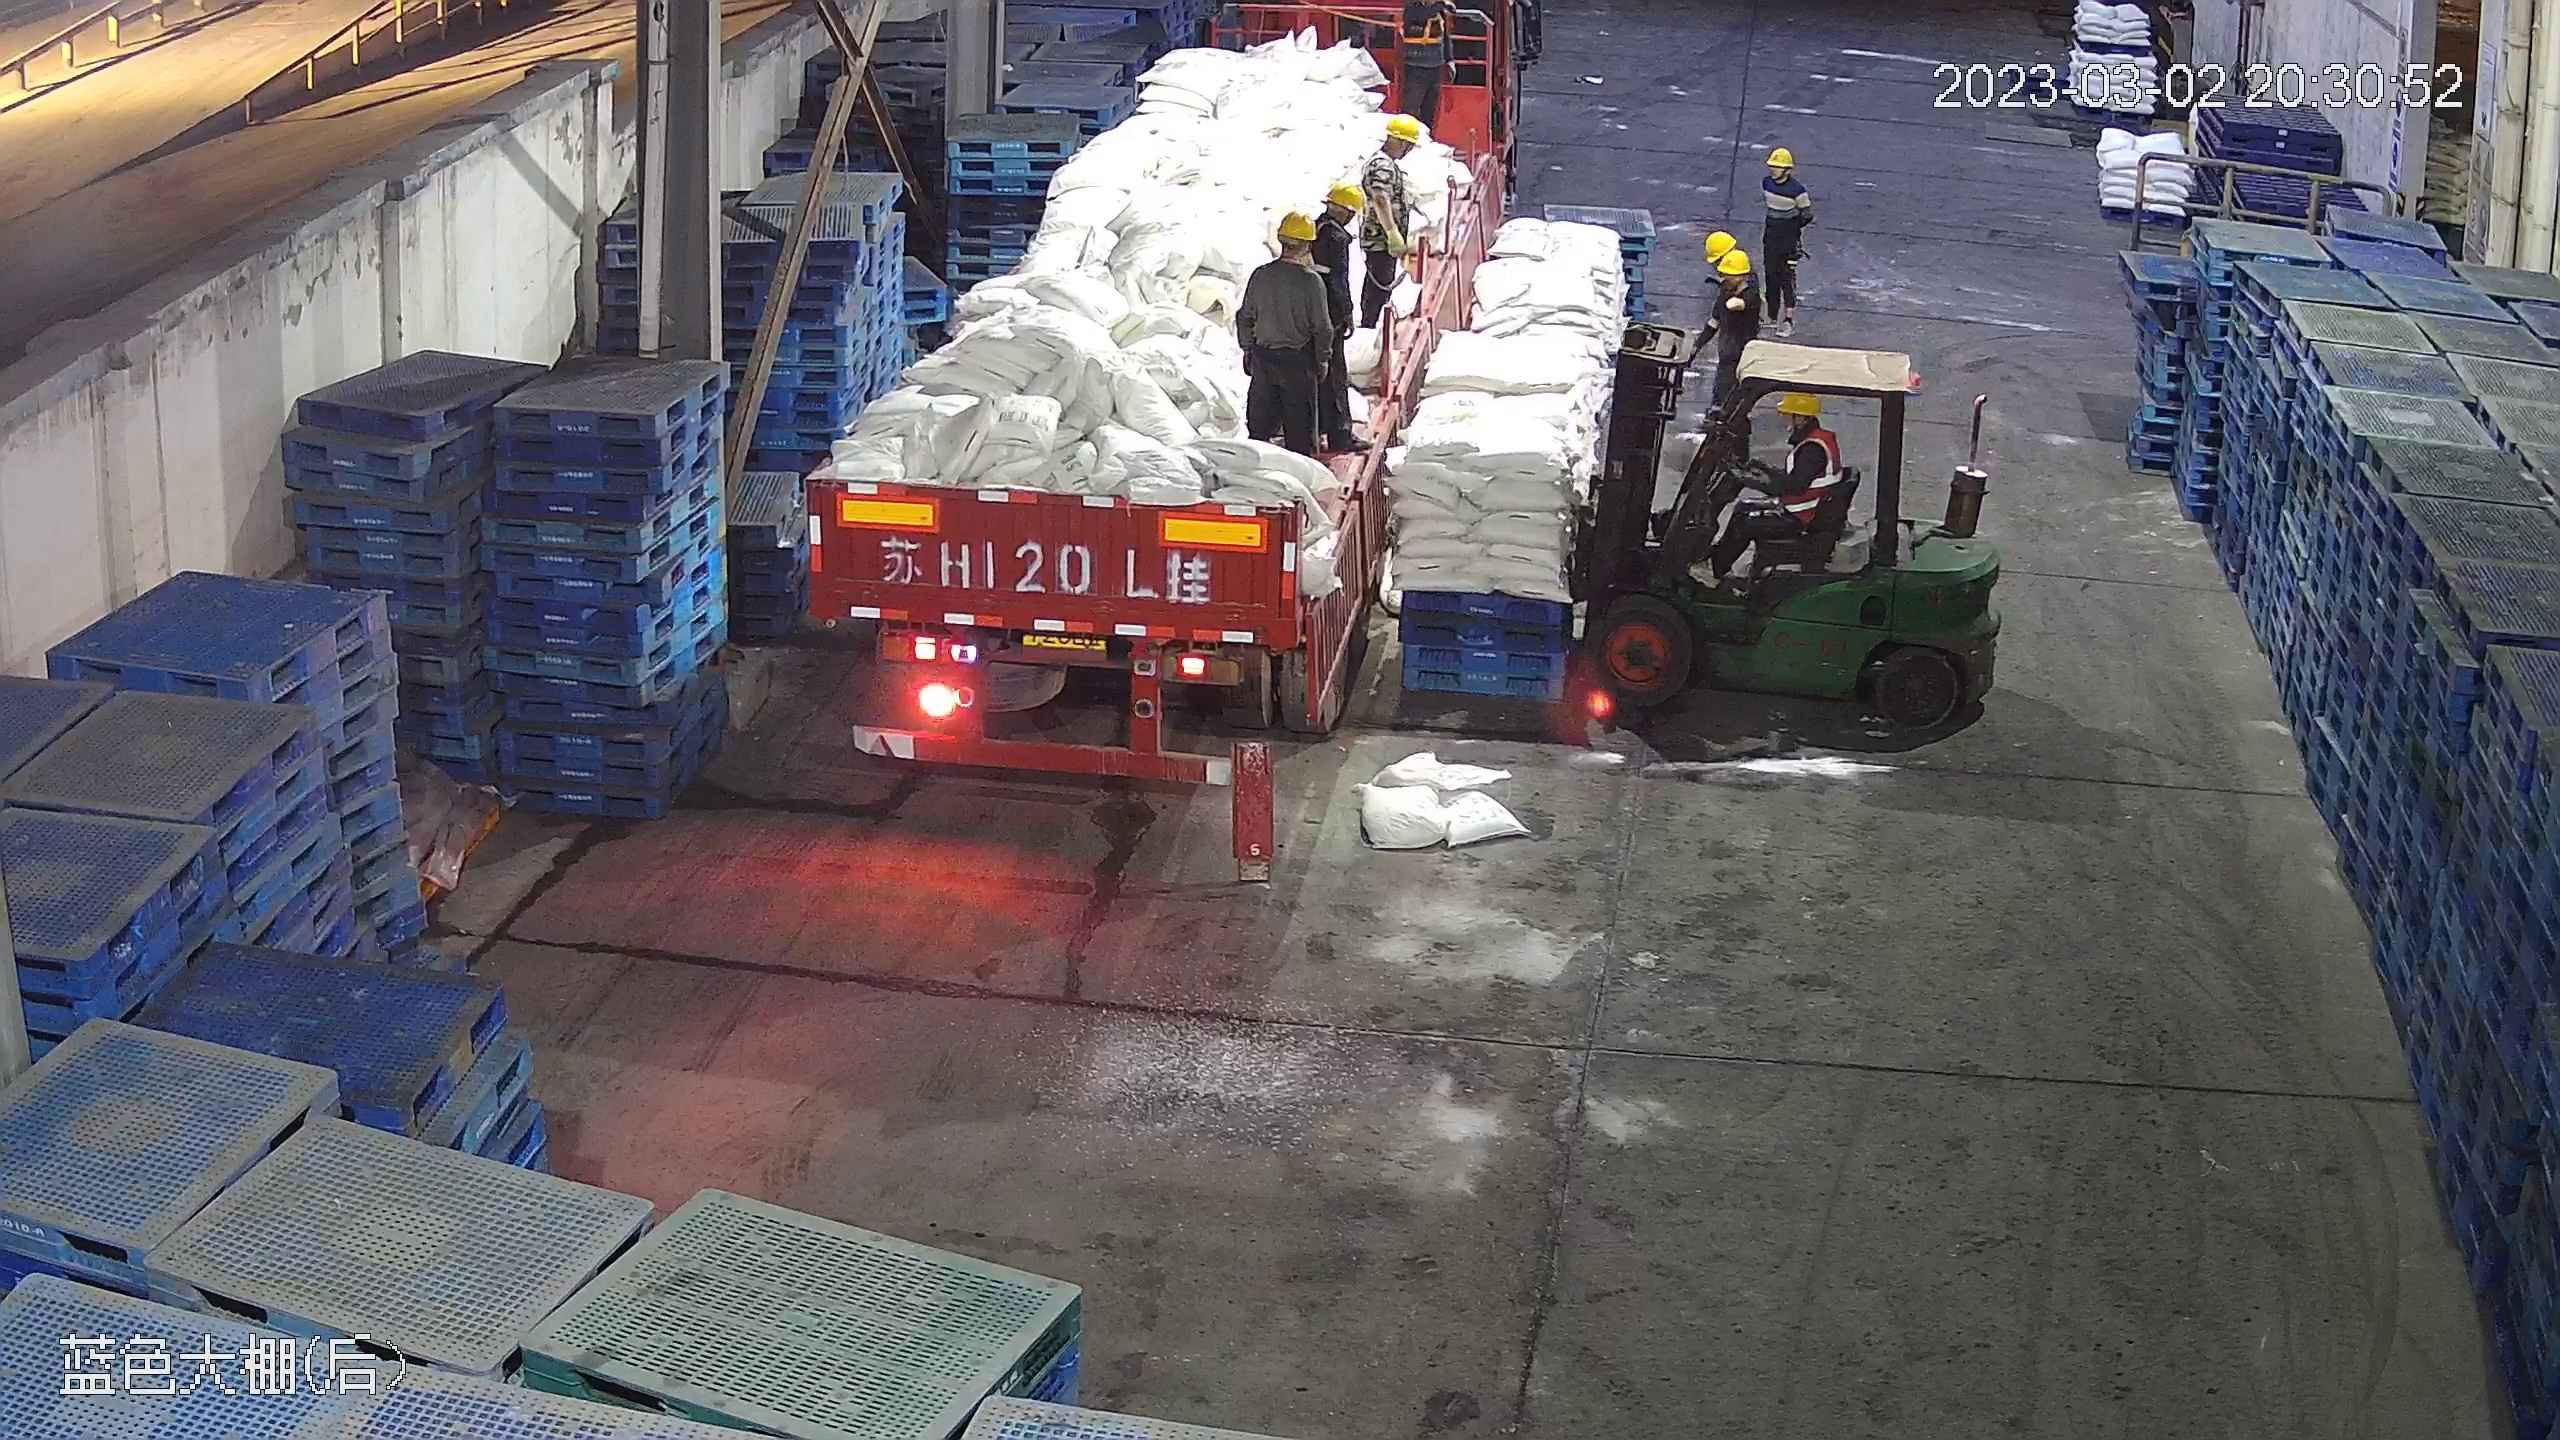belt: (1366, 145, 1404, 208), (1399, 8, 1450, 48), (1316, 215, 1335, 275)
head: (1244, 208, 1333, 297), (1772, 389, 1840, 473), (1316, 182, 1367, 278), (1354, 111, 1418, 184), (1711, 251, 1759, 319), (1760, 144, 1810, 201)
helmet: (1270, 208, 1317, 244), (1705, 231, 1746, 265), (1324, 177, 1367, 211), (1776, 389, 1820, 420), (1385, 113, 1422, 143), (1714, 250, 1752, 276), (1767, 145, 1795, 168)
people: (1696, 388, 1845, 588), (1235, 208, 1348, 452), (1325, 122, 1409, 377), (1693, 234, 1766, 446), (1751, 143, 1812, 317)
truck: (795, 11, 1491, 770)
